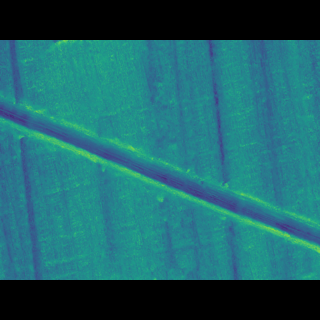Loch: (0, 106, 320, 231)
